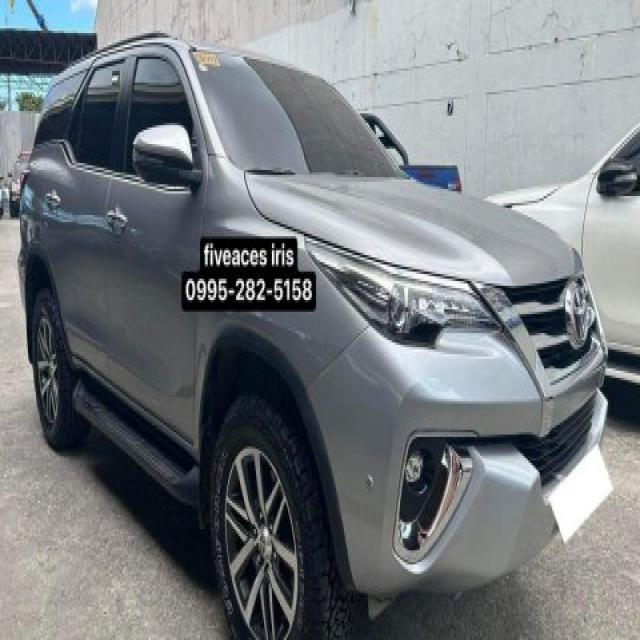light_vehicle: (16, 35, 612, 630)
